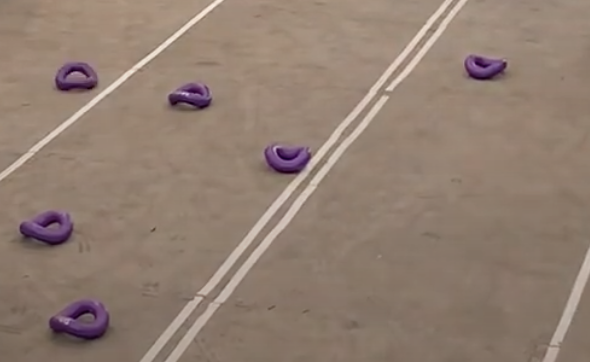ring: (49, 300, 110, 338), (19, 210, 73, 245), (264, 142, 312, 172), (166, 81, 212, 109), (54, 61, 98, 90), (464, 54, 508, 81)
